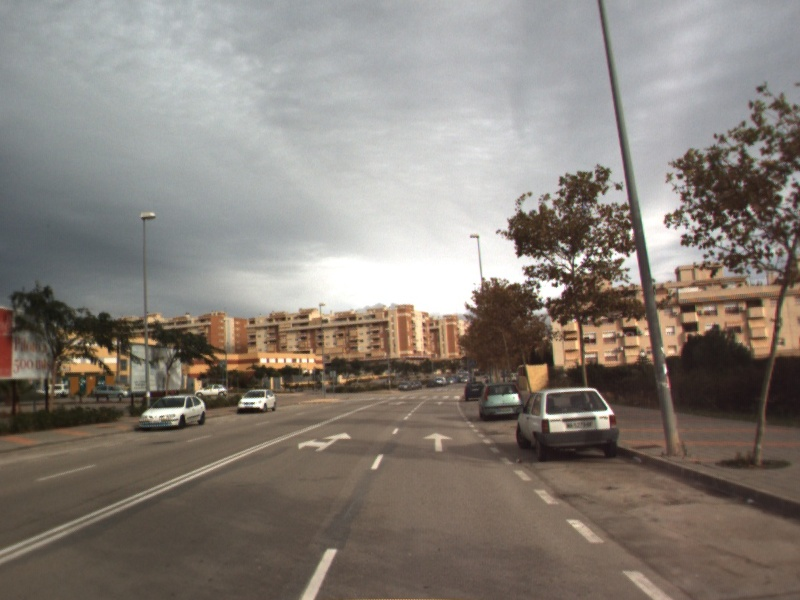STRAIGHT: (421, 430, 455, 454)
STRAIGHT_LEFT: (296, 430, 353, 453)
